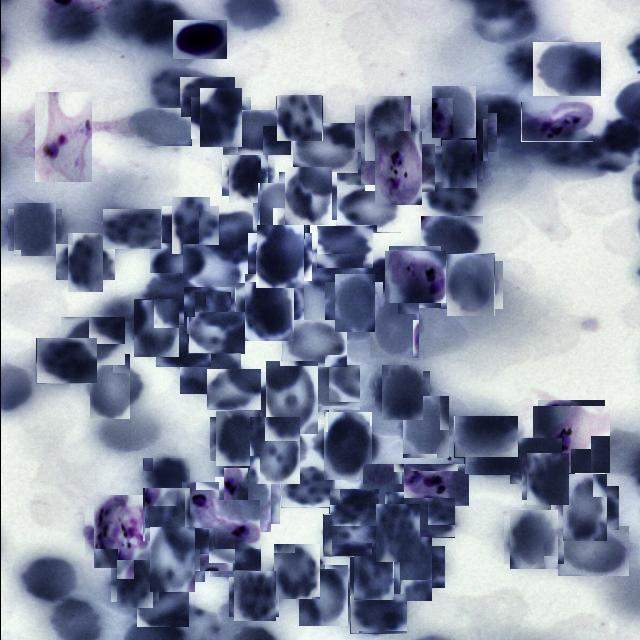leukocyte: (171, 20, 226, 60)
red blood cell: (260, 366, 323, 429), (532, 42, 600, 96), (244, 421, 304, 481), (557, 526, 628, 576), (318, 416, 376, 476), (240, 278, 298, 336), (292, 123, 357, 173), (365, 298, 422, 355), (143, 531, 200, 587), (59, 317, 124, 366), (221, 110, 290, 156), (280, 320, 346, 368), (294, 567, 350, 623), (251, 229, 307, 285), (556, 480, 612, 536), (218, 472, 274, 528), (358, 100, 414, 156), (442, 256, 498, 312), (335, 185, 400, 233), (17, 555, 80, 604), (383, 540, 438, 594), (506, 513, 560, 567), (398, 400, 452, 454), (420, 216, 482, 263), (296, 364, 359, 410), (82, 361, 136, 414), (280, 170, 334, 222), (35, 338, 96, 384), (182, 244, 240, 292), (254, 185, 306, 238), (270, 546, 322, 598), (130, 302, 182, 354), (194, 92, 246, 144), (371, 506, 423, 558), (453, 416, 517, 458), (179, 350, 240, 394), (150, 66, 213, 108), (177, 528, 234, 572), (212, 414, 262, 464), (141, 490, 191, 540), (328, 278, 378, 328), (148, 243, 206, 286), (127, 108, 191, 146), (187, 312, 244, 354), (509, 438, 561, 484), (316, 226, 372, 268), (429, 88, 478, 136), (322, 514, 376, 557), (102, 209, 160, 249), (155, 325, 210, 367), (10, 206, 58, 254), (60, 238, 108, 286), (378, 368, 426, 416), (524, 455, 572, 503), (349, 594, 406, 634), (280, 466, 334, 508), (198, 211, 256, 250), (166, 202, 213, 250), (185, 285, 232, 333), (143, 273, 194, 317), (398, 498, 454, 538), (425, 177, 482, 216), (206, 369, 260, 410), (224, 153, 271, 200), (304, 254, 362, 292), (136, 585, 188, 627), (180, 77, 234, 117), (276, 96, 322, 142), (230, 572, 276, 618), (463, 438, 518, 475), (359, 466, 405, 510), (352, 554, 396, 598), (328, 489, 378, 527), (207, 543, 260, 578), (113, 562, 155, 605), (142, 458, 189, 496), (437, 143, 479, 185)
trophozoite: (25, 100, 99, 174), (534, 403, 606, 475), (88, 500, 154, 564), (367, 138, 428, 198), (386, 464, 468, 506), (386, 248, 442, 306), (520, 102, 592, 142), (180, 482, 218, 545), (444, 108, 492, 156), (213, 500, 259, 550)
